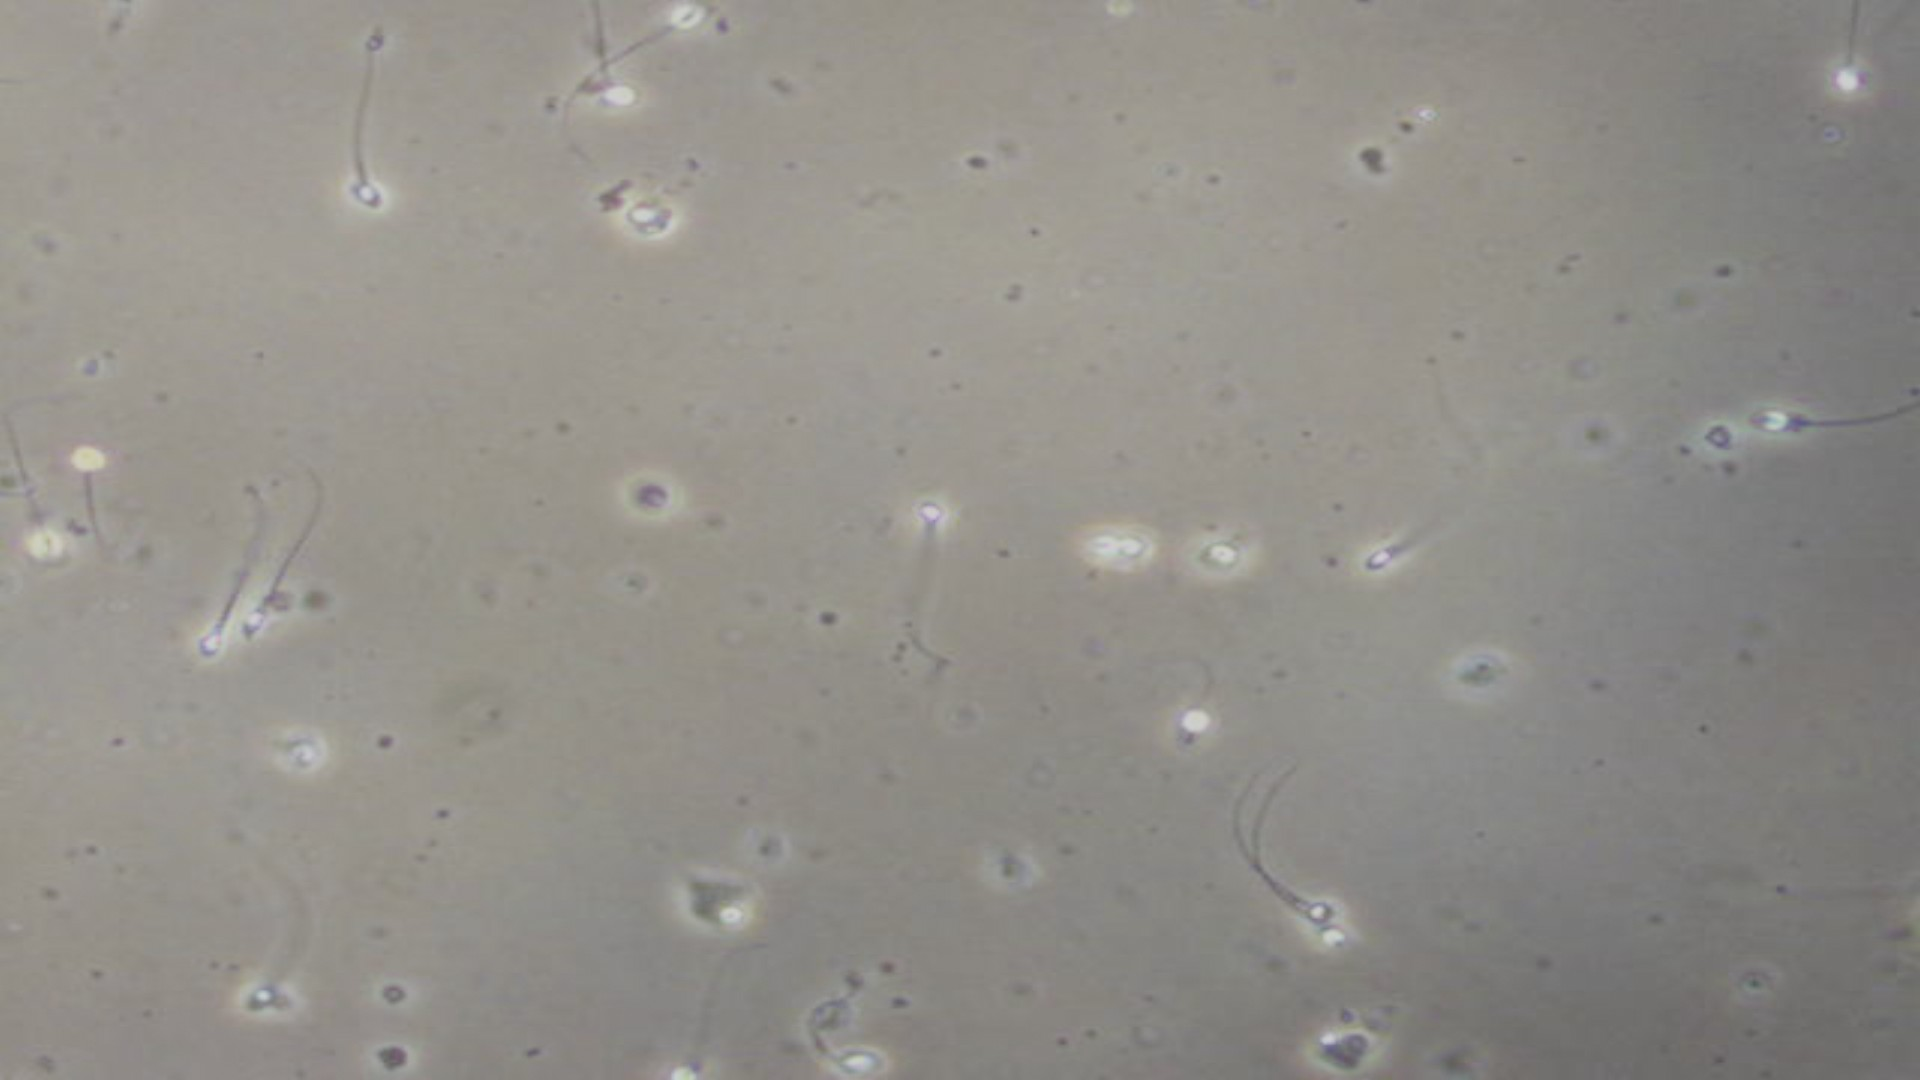sperm: (1350, 468, 1499, 617), (207, 852, 338, 1018), (247, 493, 352, 653), (1135, 641, 1255, 771), (1226, 804, 1338, 924), (646, 949, 749, 1080), (62, 436, 153, 570), (803, 978, 918, 1080), (1, 426, 73, 589), (1720, 392, 1865, 471), (903, 498, 982, 641), (327, 96, 406, 222), (559, 1, 632, 125), (607, 11, 735, 80), (189, 512, 237, 665), (1832, 1, 1855, 113)
